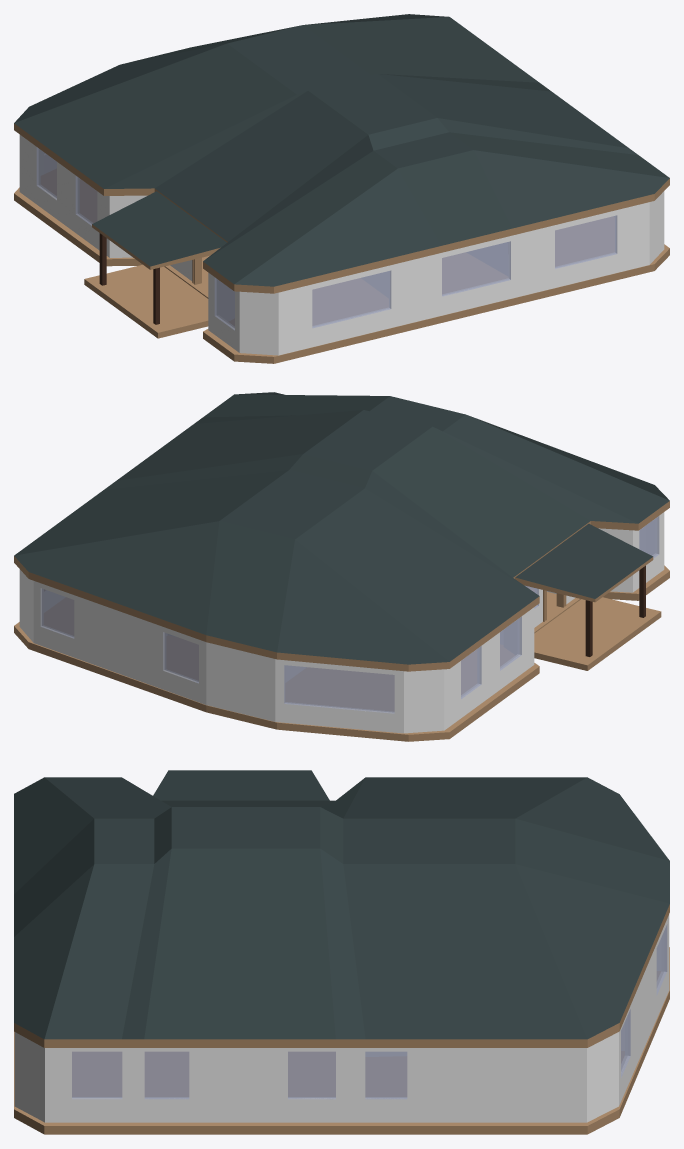
File: room.glb
3 views of the same model, one above another, from view 1: azimuth 30°, elevation 25°; view 2: azimuth 150°, elevation 25°; view 3: azimuth 270°, elevation 25° (orthographic). The views are drawn at different scales.
Parts seen in each view (by area): view 1: House13 Roof, House13 Walls, House13 Floors, House13 Walls.001, House13 Walls.002; view 2: House13 Roof, House13 Walls, House13 Floors, House13 Walls.001; view 3: House13 Roof, House13 Walls, House13 Floors, House13 Walls.001.
Boxes of the visible parts, x1=… form: House13 Roof: x1=14, y1=14, x2=669, y2=324; House13 Walls: x1=19, y1=134, x2=664, y2=355; House13 Floors: x1=14, y1=169, x2=669, y2=363; House13 Walls.001: x1=36, y1=147, x2=617, y2=330; House13 Walls.002: x1=362, y1=242, x2=507, y2=297; House13 Roof: x1=14, y1=392, x2=669, y2=671; House13 Walls: x1=19, y1=512, x2=664, y2=733; House13 Floors: x1=14, y1=565, x2=669, y2=741; House13 Walls.001: x1=40, y1=516, x2=659, y2=713; House13 Roof: x1=14, y1=770, x2=669, y2=1047; House13 Walls: x1=14, y1=914, x2=669, y2=1122; House13 Floors: x1=14, y1=947, x2=669, y2=1134; House13 Walls.001: x1=72, y1=924, x2=667, y2=1099.
Bounding box in the file's own units: 221 × 65.42 × 217.
